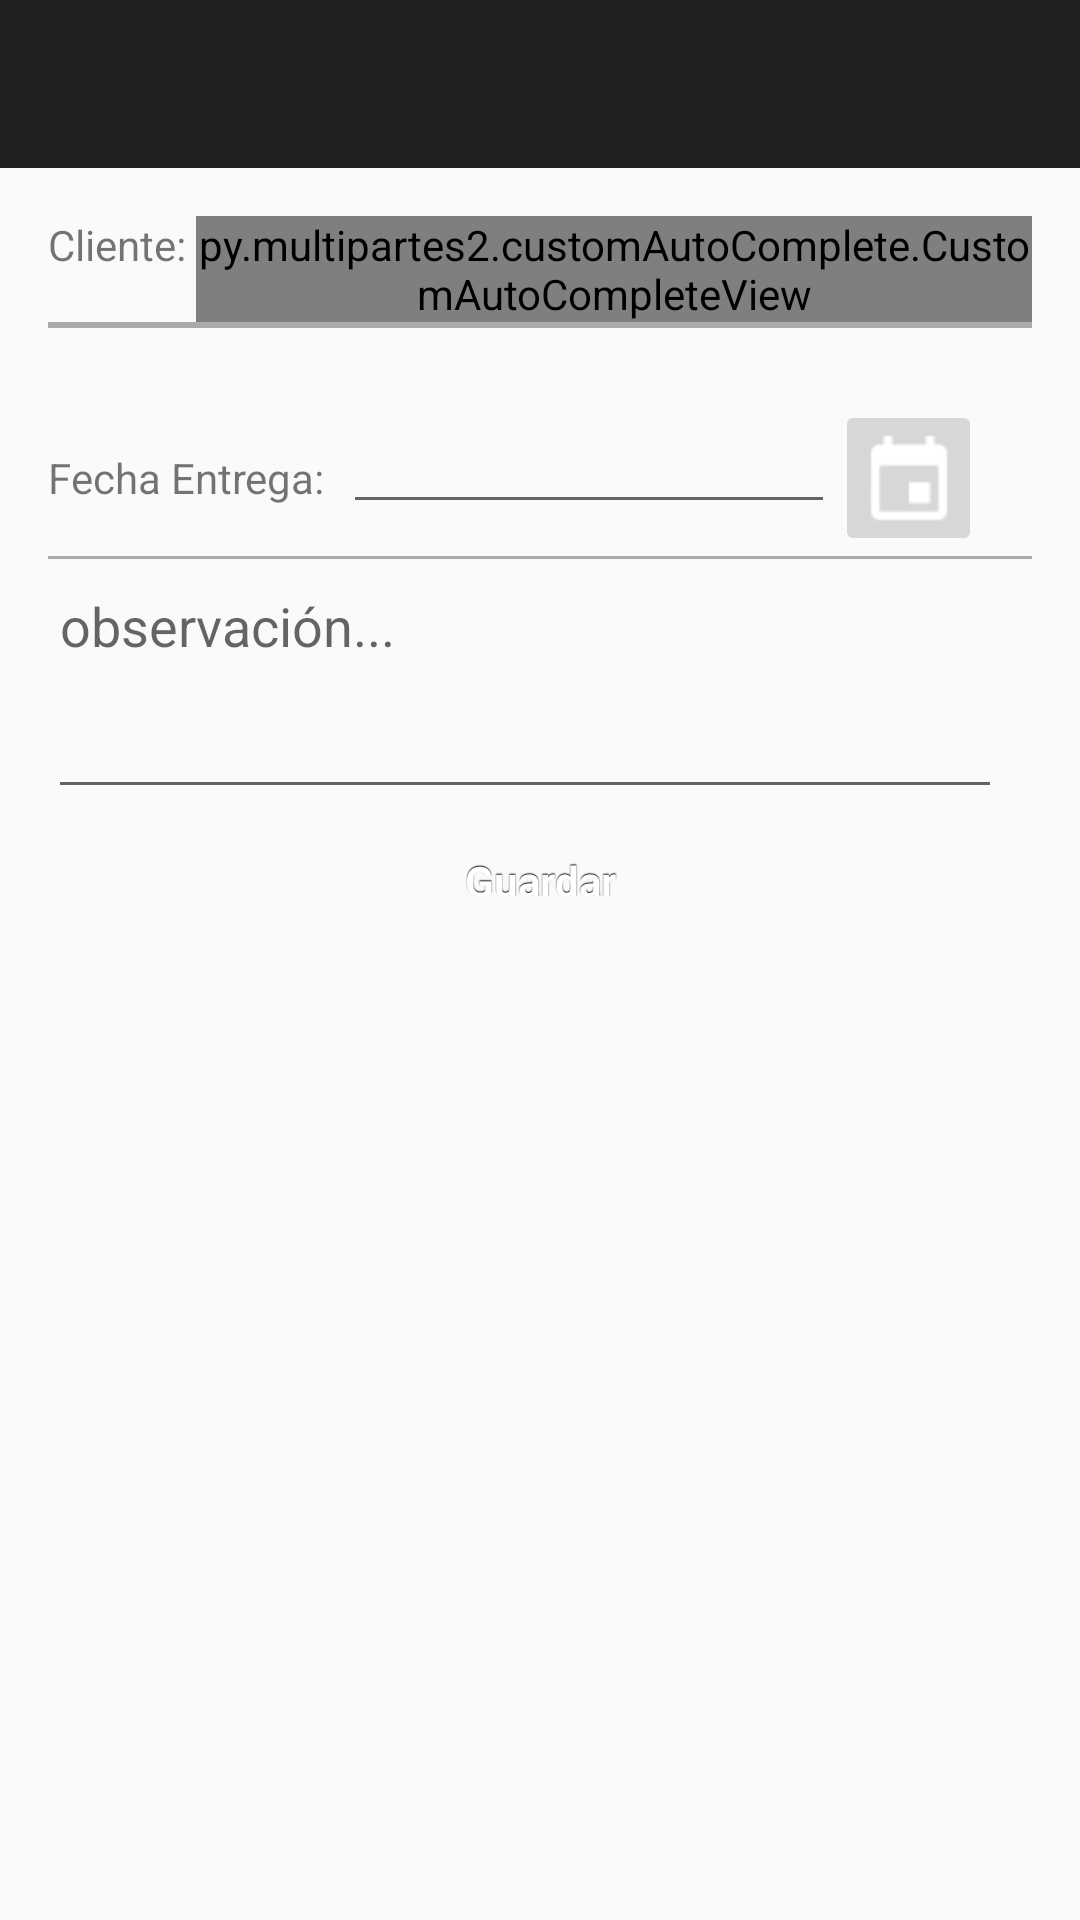

Screen size 1080x1920. Icon name, then its center in pixels as [x,y]:
calendar: [908,478]
